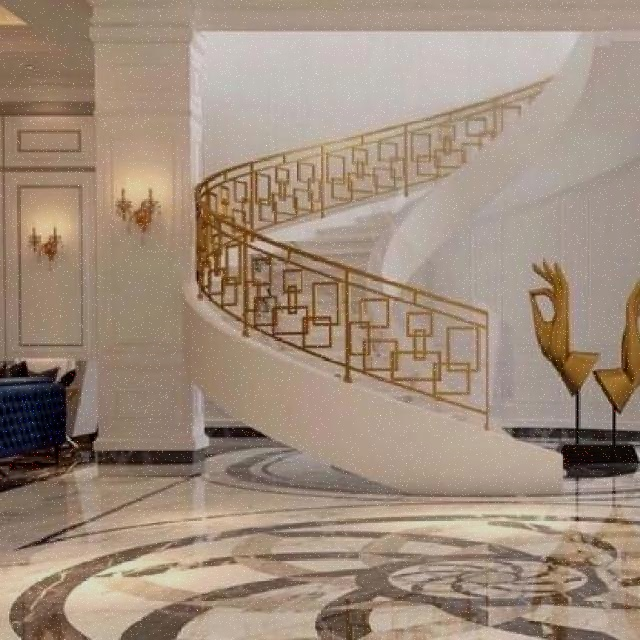stair: (186, 140, 551, 497)
